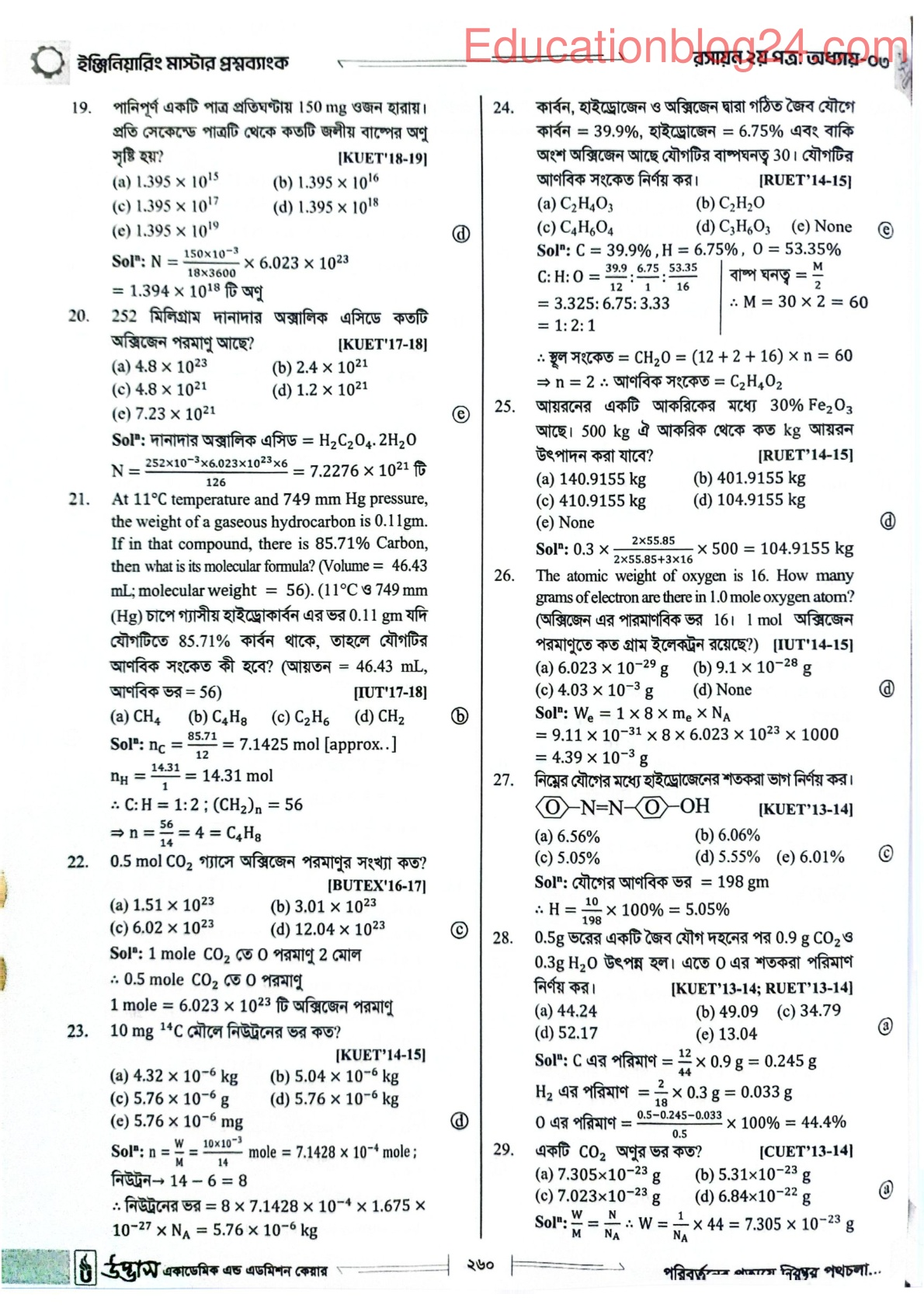question: (63, 488, 435, 731), (489, 91, 880, 242), (68, 94, 435, 246), (489, 392, 879, 533), (489, 565, 860, 701), (486, 920, 878, 1048), (63, 303, 437, 428), (61, 1013, 434, 1135), (487, 762, 878, 871), (61, 848, 434, 943), (487, 1133, 878, 1214)
